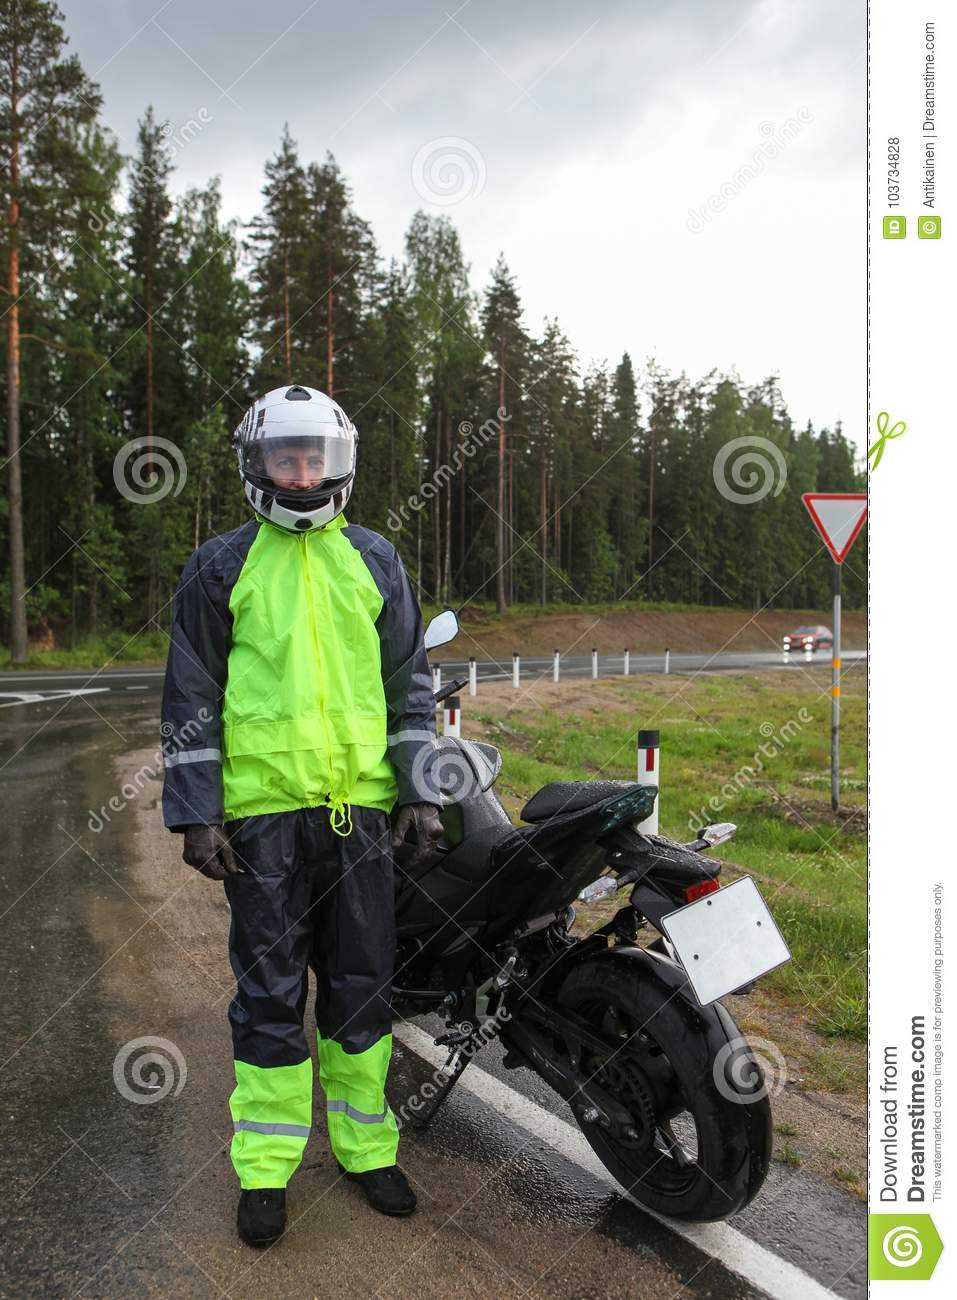helmet: (238, 389, 356, 529)
